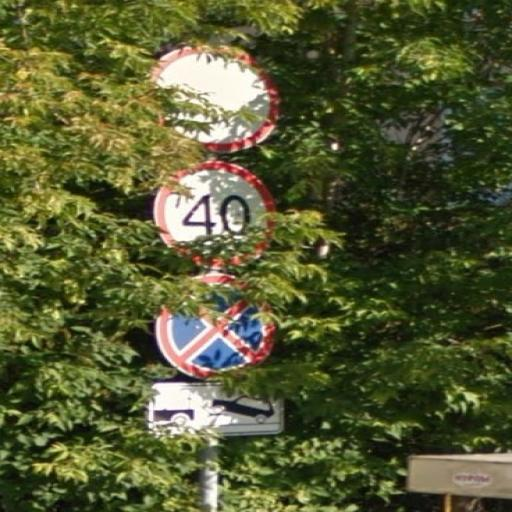traffic_sign: (143, 46, 286, 155), (153, 270, 284, 382), (153, 161, 281, 273)
